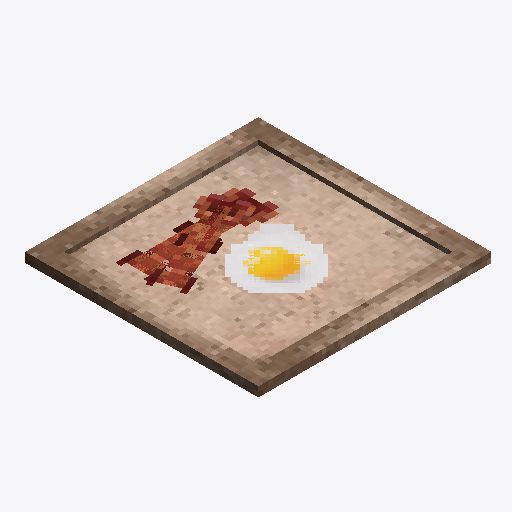
Isometric view (azimuth 45°, elevation 35.3°) of a Minecraft model made of 8 cuboids, textured from the same repository.
Visible parts, largest first — element 4, element 6, element 5, element 3, element 8, element 7, element 1, element 2.
Boxes of the visible parts, x1,y1,x2,y2 form: element 4: [25, 145, 490, 396]; element 6: [25, 241, 277, 391]; element 5: [239, 117, 490, 267]; element 3: [225, 224, 327, 292]; element 8: [259, 252, 471, 379]; element 7: [45, 129, 257, 253]; element 1: [146, 193, 255, 293]; element 2: [116, 188, 278, 280].
Bounding box in the file's own units: 12 × 0.5 × 12.25.